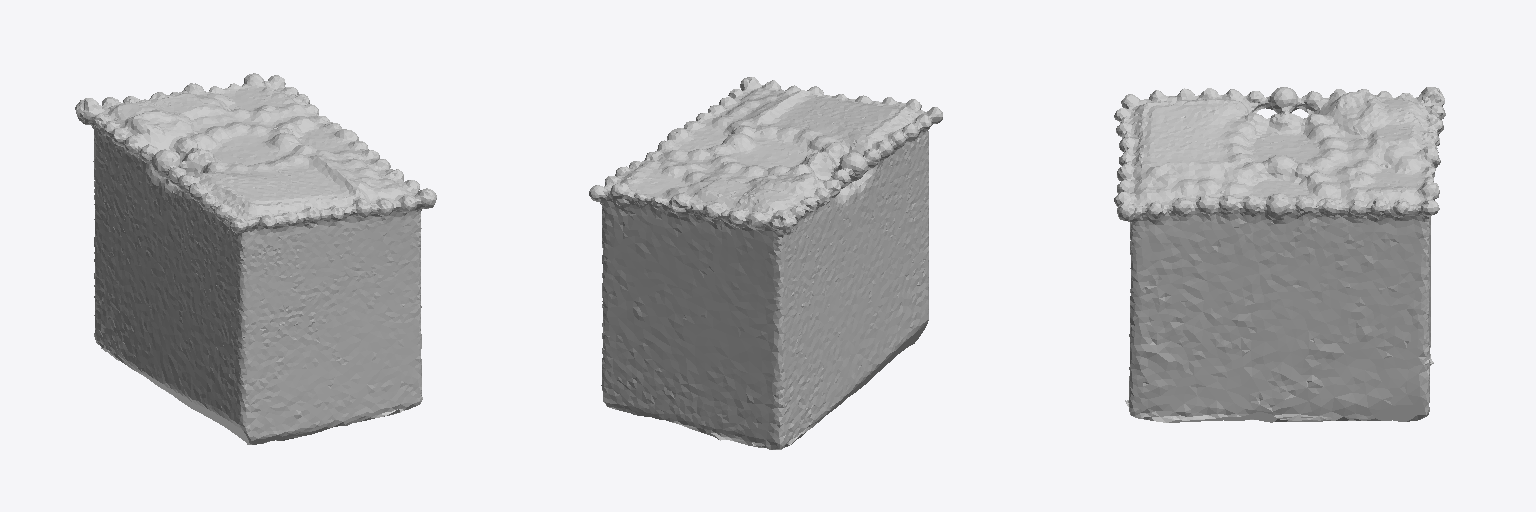
File: altar.obj
3 views of the same model, side by side, from view 1: azimuth 30°, elevation 25°; view 2: azimuth 150°, elevation 25°; view 3: azimuth 270°, elevation 25° (orthographic).
Parts seen in each view (by area): view 1: Mesh; view 2: Mesh; view 3: Mesh.
Part boxes in pixels (bbox=[...]): Mesh: bbox=[75, 73, 436, 444]; Mesh: bbox=[589, 77, 942, 449]; Mesh: bbox=[1114, 87, 1445, 422].
Bounding box in the file's own units: 0.8972 × 1.05 × 1.25.